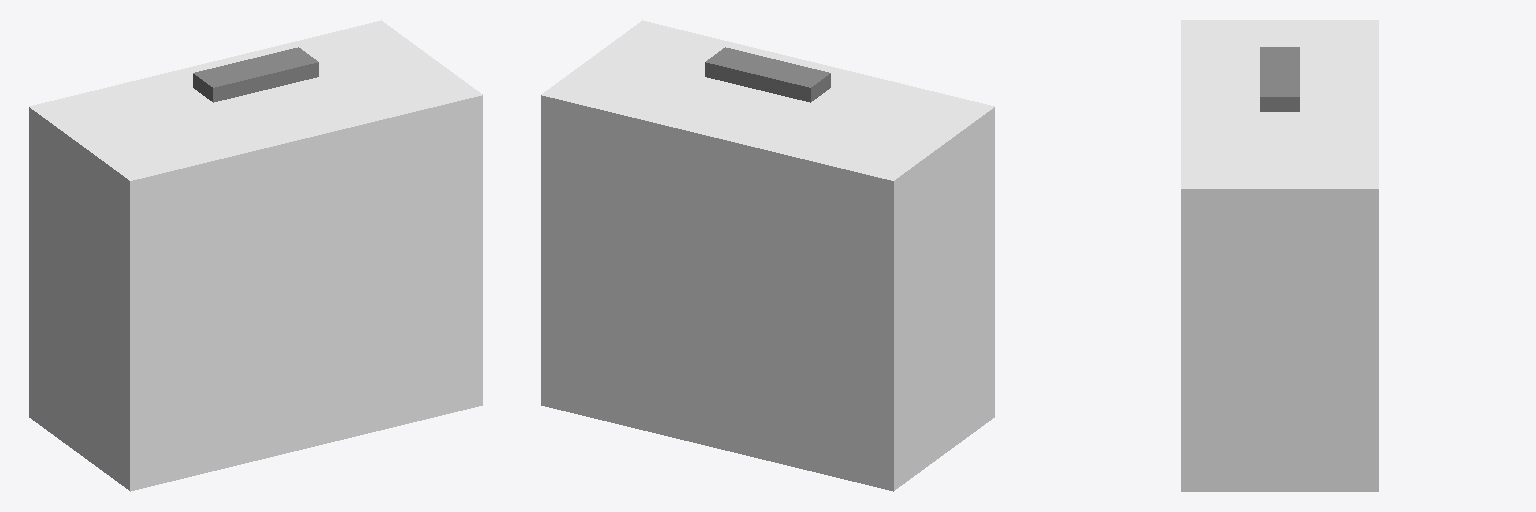
URDF robot description (cargo_bag):
<?xml version="1.0"?>

<!-- Rigid version of the cargo bag -->

<!-- All dimensions match the original deformable cargo bag (50 x 42 x 25 cm) -->
<!-- We connect the handle and the main compartment with a few "dummy" links/joints -->
<!--   to mimic how the deformable handle should behave -->
<!-- Three revolute joints allows us to mimic a ball joint while allowing us to set limits -->
<!--   on the motion for certain axes, and add friction -->

<!-- NOTE: to edit this file, ensure the following: -->
<!-- 1) Update the visual and collision dimensions together -->
<!-- 2) All dummy links should have the same properties (like inertia) -->
<!-- 3) If updating the mass, also update the inertia! However, in general, we should load this -->
<!--    into pybullet NOT using the USE_INERTIA_FROM_FILE flag since these values might be wrong -->

<!-- TODO: decide if there should be a prismatic link as well -->

<robot name="cargo_bag">
    <link name="main_compartment_link">
        <self_collide>false</self_collide>
        <visual name="main_compartment_visual">
            <origin rpy="0 0 0" xyz="0 0 0"/>
            <geometry>
                <box size="0.50 0.25 0.42"/>
            </geometry>
            <material name="bag_material">
                <!-- White -->
                <color rgba="1 1 1 1"/>
            </material>
        </visual>
        <!-- Split the collision body into 3 parts to allow for collision-free space around the handle -->
        <collision name="center_collision">
            <origin rpy="0 0 0" xyz="0 0 -0.03"/>
            <geometry>
                <box size="0.20 0.25 0.36"/>
            </geometry>
        </collision>
        <collision name="left_collision">
            <origin rpy="0 0 0" xyz="-0.175 0 0"/>
            <geometry>
                <box size="0.15 0.25 0.42"/>
            </geometry>
        </collision>
        <collision name="right_collision">
            <origin rpy="0 0 0" xyz="0.175 0 0"/>
            <geometry>
                <box size="0.15 0.25 0.42"/>
            </geometry>
        </collision>
        <inertial>
            <origin rpy="0 0 0" xyz="0 0 0"/>
            <!-- Set the mass so that the whole bag has a total mass of 5kg -->
            <mass value="4.885"/>
            <inertia ixx="0.09725221" ixy="0" ixz="0" iyy="0.17358033" iyz="0" izz="0.12721354"/>
        </inertial>
    </link>

    <link name="handle_link">
        <self_collide>false</self_collide>
        <visual name="handle_visual">
            <origin rpy="0 0 0" xyz="0 0 0"/>
            <geometry>
                <box size="0.02 0.05 0.15"/>
            </geometry>
            <material name="handle_material">
                <!-- Gray -->
                <color rgba="0.6 0.6 0.6 1"/>
            </material>
        </visual>
        <collision name="handle_collision">
            <origin rpy="0 0 0" xyz="0 0 0"/>
            <geometry>
                <box size="0.02 0.05 0.15"/>
            </geometry>
        </collision>
        <inertial>
            <origin rpy="0 0 0" xyz="0 0 0"/>
            <mass value="0.1"/>
            <inertia ixx="2.08333e-4" ixy="0" ixz="0" iyy="1.90833e-4" iyz="0" izz="2.41667e-5"/>
        </inertial>
    </link>

    <joint name="pitch_joint" type="revolute">
        <parent link="main_compartment_link"/>
        <child link="pitch_link"/>
        <axis xyz="0 1 0" />
        <!-- Origin specifies the ball joint location -->
        <origin rpy="0 0 0" xyz="0 0 0.21"/>
        <limit effort="1.0" lower="-0.7" upper="0.7" velocity="1.0"/>
    </joint>

    <link name="pitch_link">
        <!-- Small dummy mass/inertia values so this link is not ignored -->
        <inertial>
            <mass value="0.005" />
            <inertia ixx="5.0e-5" ixy="0" ixz="0" iyy="5.0e-5" iyz="0" izz="5.0e-5" />
        </inertial>
    </link>

    <joint name="yaw_joint" type="revolute">
        <parent link="pitch_link"/>
        <child link="yaw_link"/>
        <axis xyz="0 0 1" />
        <limit effort="1.0" lower="-0.52360" upper="0.52360" velocity="1.0"/>
    </joint>

    <link name="yaw_link">
        <!-- Small dummy mass/inertia values so this link is not ignored -->
        <inertial>
            <mass value="0.005" />
            <inertia ixx="5.0e-5" ixy="0" ixz="0" iyy="5.0e-5" iyz="0" izz="5.0e-5" />
        </inertial>
    </link>

    <joint name="roll_joint" type="revolute">
        <parent link="yaw_link"/>
        <child link="roll_link"/>
        <axis xyz="1 0 0" />
        <limit effort="1.0" lower="-0.52360" upper="0.52360" velocity="1.0"/>
    </joint>

    <link name="roll_link">
        <!-- Small dummy mass/inertia values so this link is not ignored -->
        <inertial>
            <mass value="0.005" />
            <inertia ixx="5.0e-5" ixy="0" ixz="0" iyy="5.0e-5" iyz="0" izz="5.0e-5" />
        </inertial>
    </link>

    <joint name="handle_joint" type="fixed">
        <!-- Origin specifies the handle's offset from ball joint location -->
        <!-- Orientation dictates how the Astrobee grasps the handle -->
        <origin rpy="0 -1.57079 0" xyz="0 0 0.035" />
        <parent link="roll_link"/>
        <child link="handle_link"/>
    </joint>

</robot>

--- Facts derived from the render (not from the file) ---
Views: 3 orthographic renders of the robot side by side, from view 1: azimuth 30°, elevation 25°; view 2: azimuth 150°, elevation 25°; view 3: azimuth 270°, elevation 25°.
Model cargo_bag with 5 links and 4 joints (3 revolute, 1 fixed), rooted at main_compartment_link, posed every joint at zero.
Links seen in each view (by area): view 1: main_compartment_link, handle_link; view 2: main_compartment_link, handle_link; view 3: main_compartment_link, handle_link.
Boxes of the visible links, x1,y1,x2,y2 form: main_compartment_link: (29,20,482,491); handle_link: (193,47,318,102); main_compartment_link: (541,20,994,491); handle_link: (705,47,830,102); main_compartment_link: (1181,20,1378,491); handle_link: (1260,47,1299,111).
Bounding box of the posed robot: 0.5 × 0.25 × 0.465 m (x, y, z).
Geometry: primitives only (box / cylinder / sphere), no mesh files.